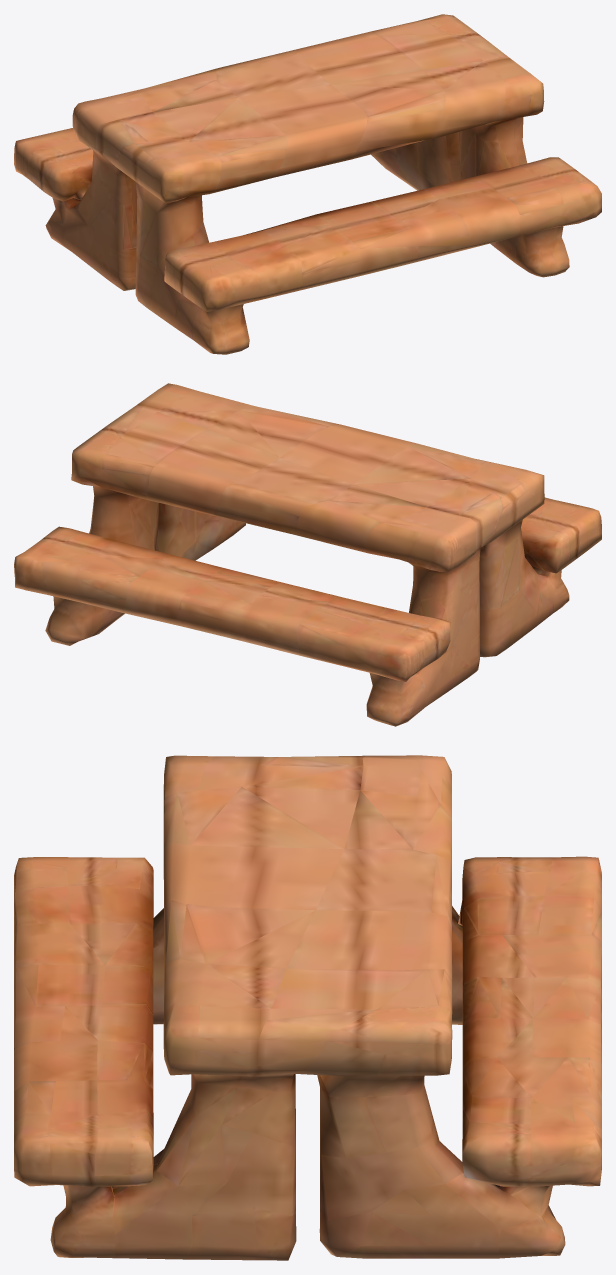
The model's file is bench.glb.
3 views of the same model, one above another, from view 1: azimuth 30°, elevation 25°; view 2: azimuth 150°, elevation 25°; view 3: azimuth 270°, elevation 25° (orthographic). The views are drawn at different scales.
Size of the model in its own units: 1.92 by 0.7522 by 1.65.
1 material, 1 textured.
